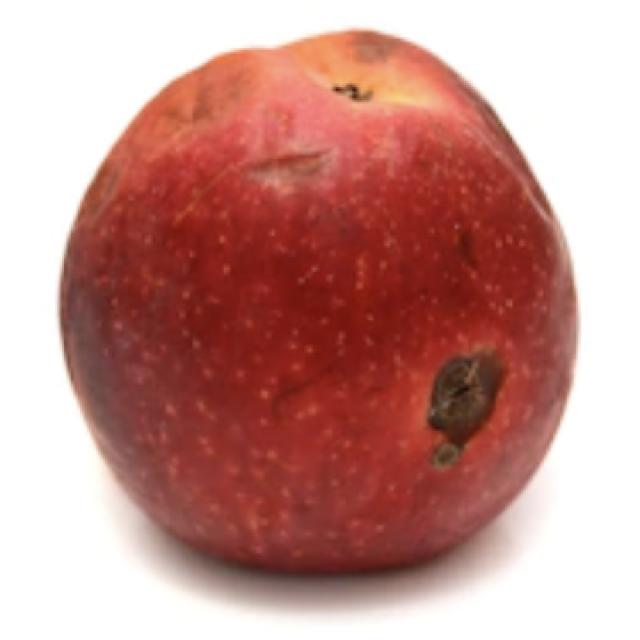rotten_apple: (62, 30, 578, 570)
